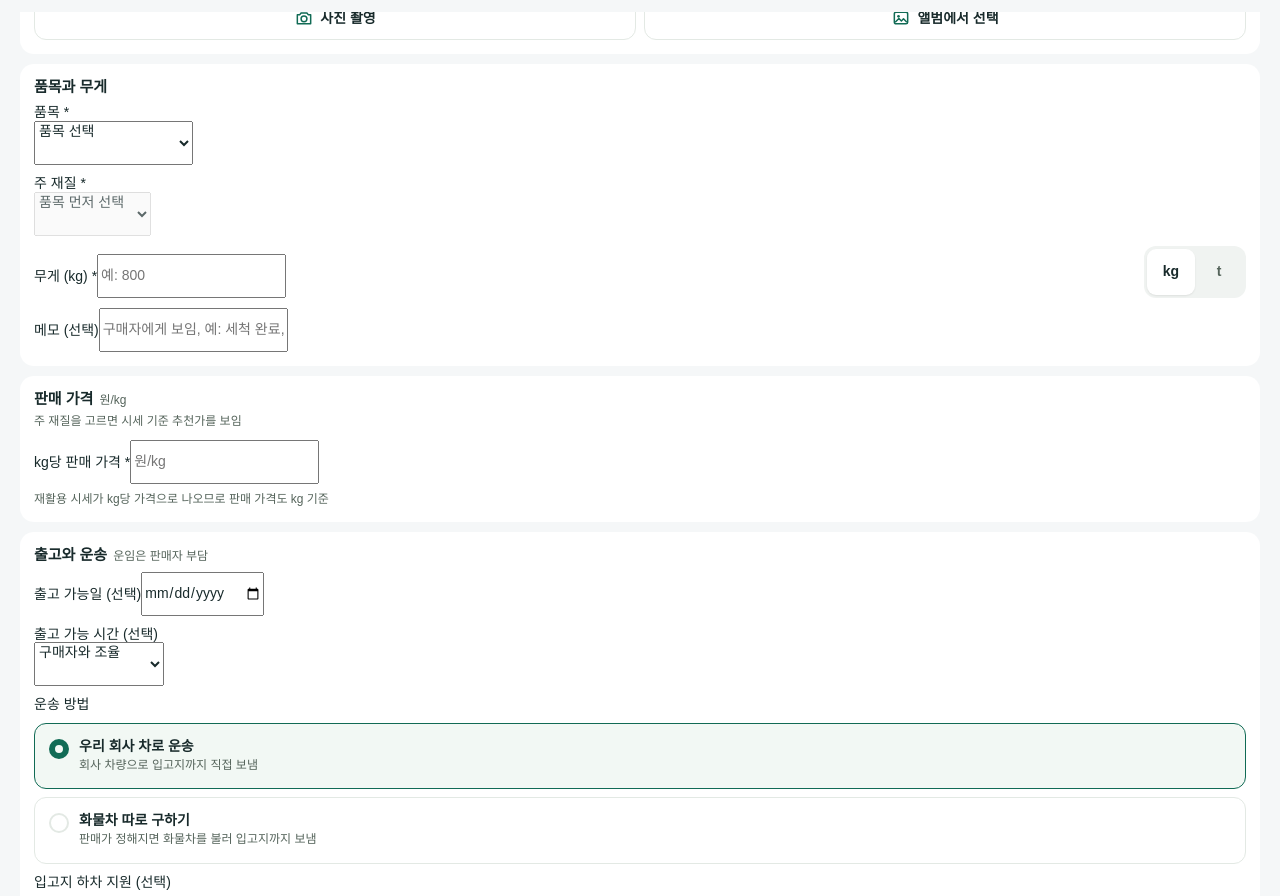
Test: 사람이 쓴 판매 가격은 시세로 덮지 않는다
Type "500" into the field with placeholder "원/kg" at [225, 462], box x1=130 y1=440 x2=319 y2=484
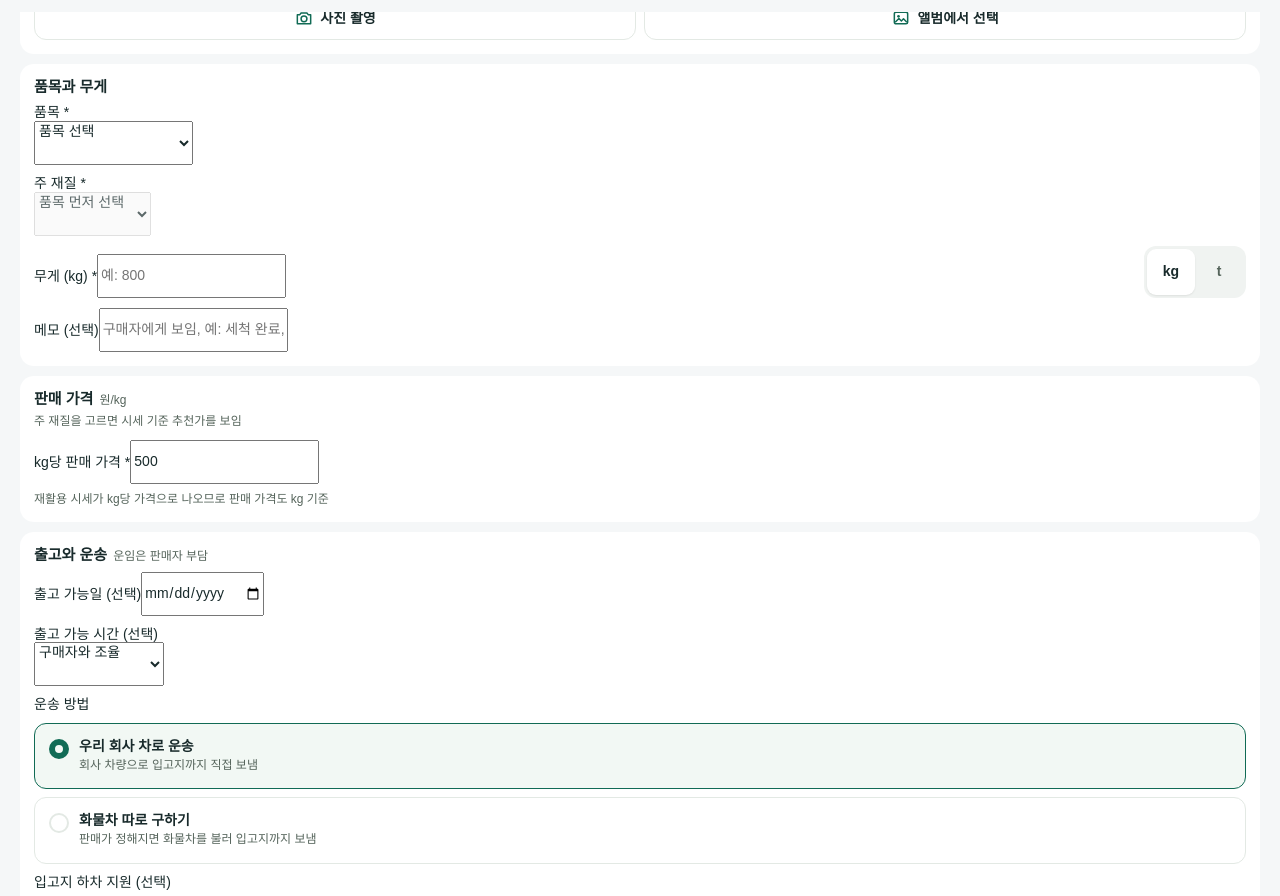
Select "고철" in the dropdown labelled "품목 *" at [114, 143], box x1=34 y1=121 x2=193 y2=165
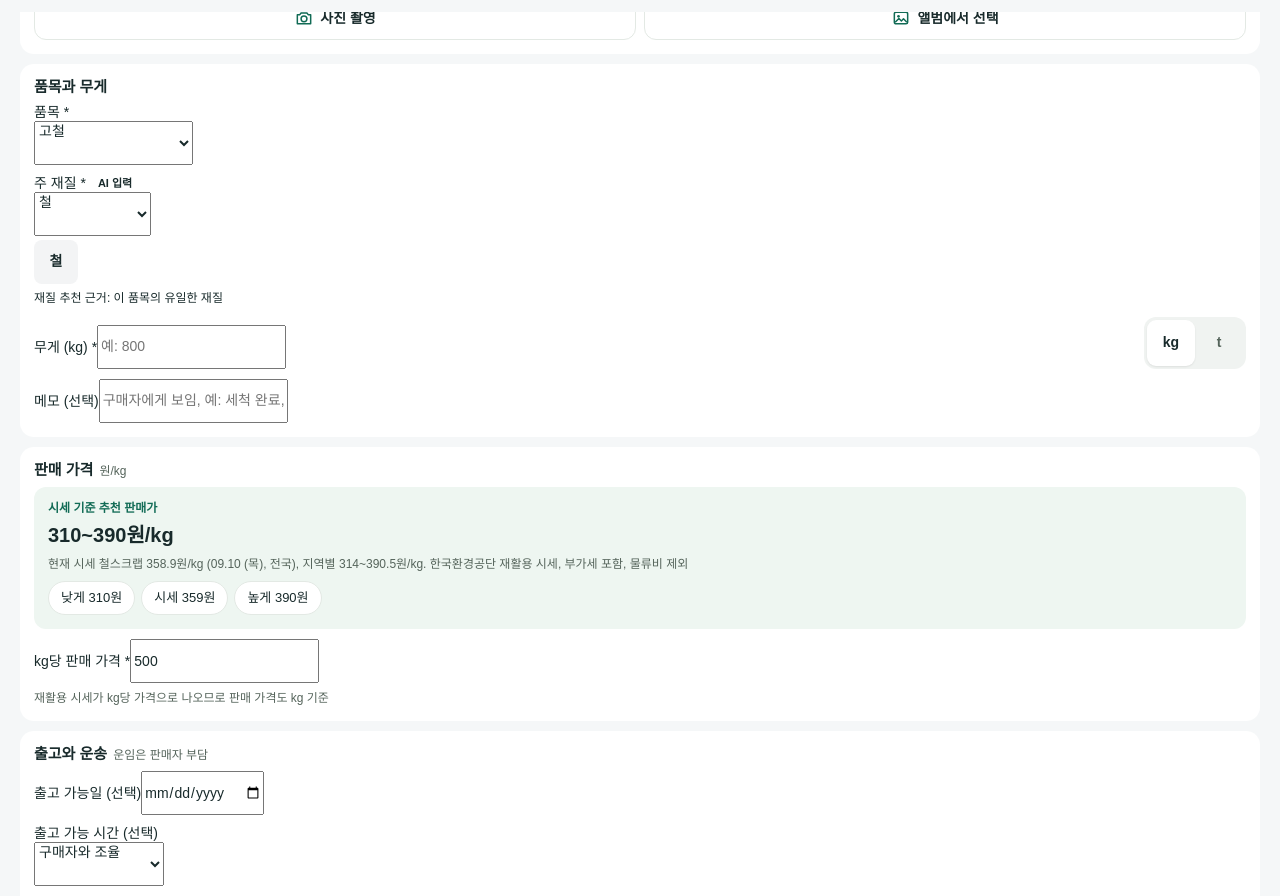
expect the button "시세 359원" is shown: met, box x1=141 y1=581 x2=228 y2=615
